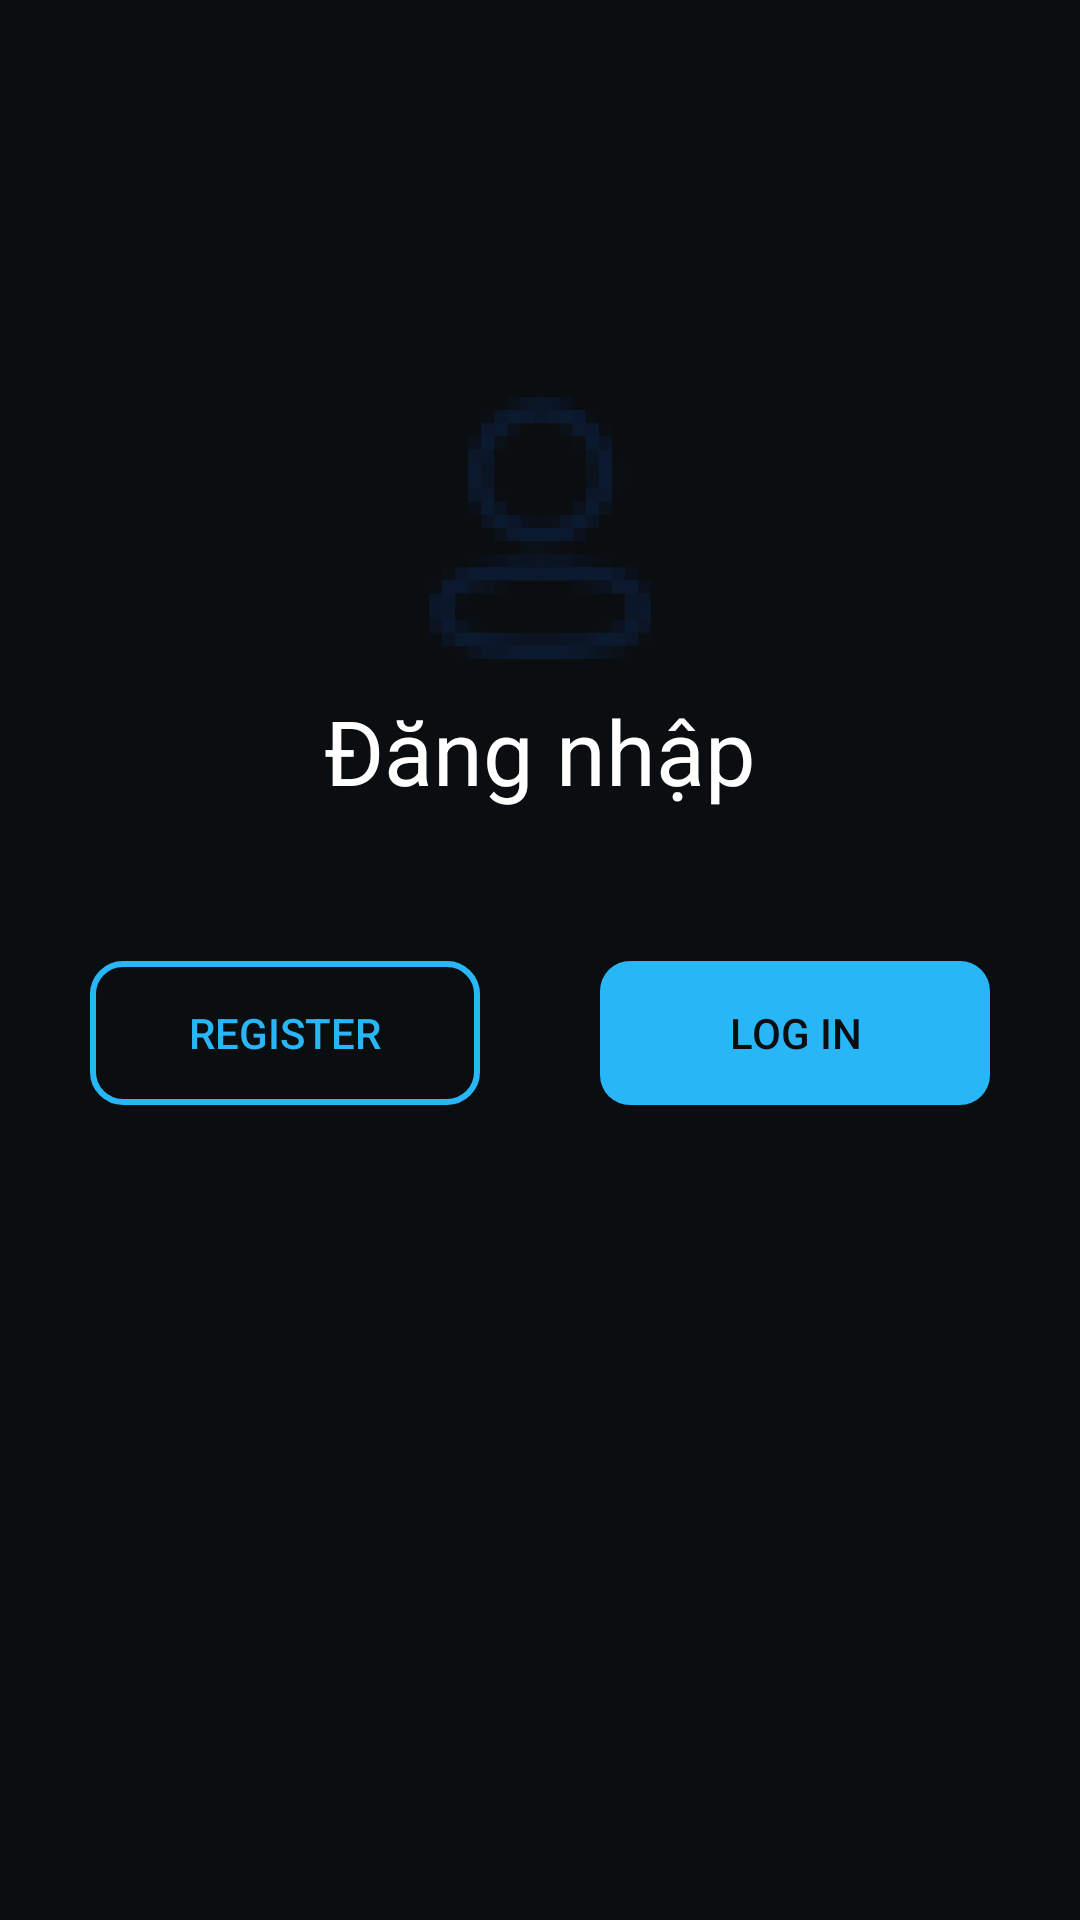

Where icons sit on this 1080*1920 app screen, as (left=x1, top=y1, right=x2, bottom=y2):
user: (left=442, top=410, right=651, bottom=659)
